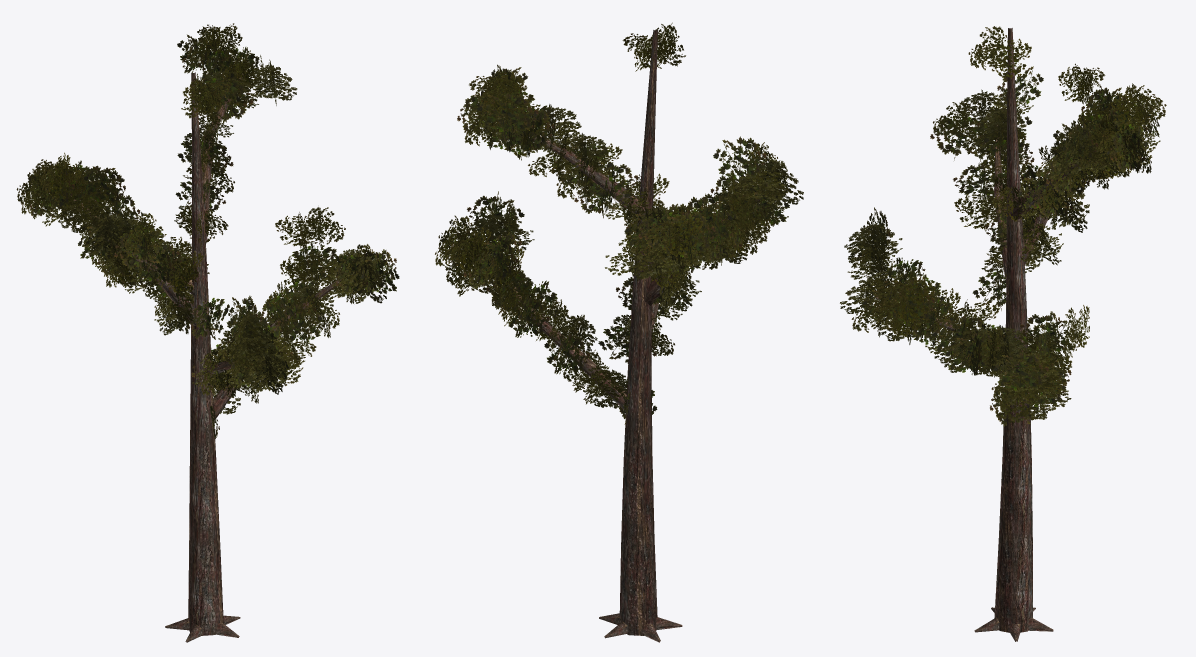
The model's file is tree_3d_06_lod1.glb.
3 renders of one model, left to right at view 1: azimuth 30°, elevation 25°; view 2: azimuth 150°, elevation 25°; view 3: azimuth 270°, elevation 25°, orthographic. The views are drawn at different scales.
Visible parts, largest first — view 1: foliage_cards, wood_geometry; view 2: foliage_cards, wood_geometry; view 3: foliage_cards, wood_geometry.
Boxes of the visible parts, x1=… form: foliage_cards: x1=16, y1=23, x2=399, y2=438; wood_geometry: x1=71, y1=70, x2=340, y2=642; foliage_cards: x1=435, y1=22, x2=803, y2=424; wood_geometry: x1=470, y1=30, x2=764, y2=642; foliage_cards: x1=840, y1=26, x2=1166, y2=429; wood_geometry: x1=875, y1=28, x2=1125, y2=641.
Size of the model in its own units: 5.11 by 8.05 by 4.24.
2 materials, 2 textured.
